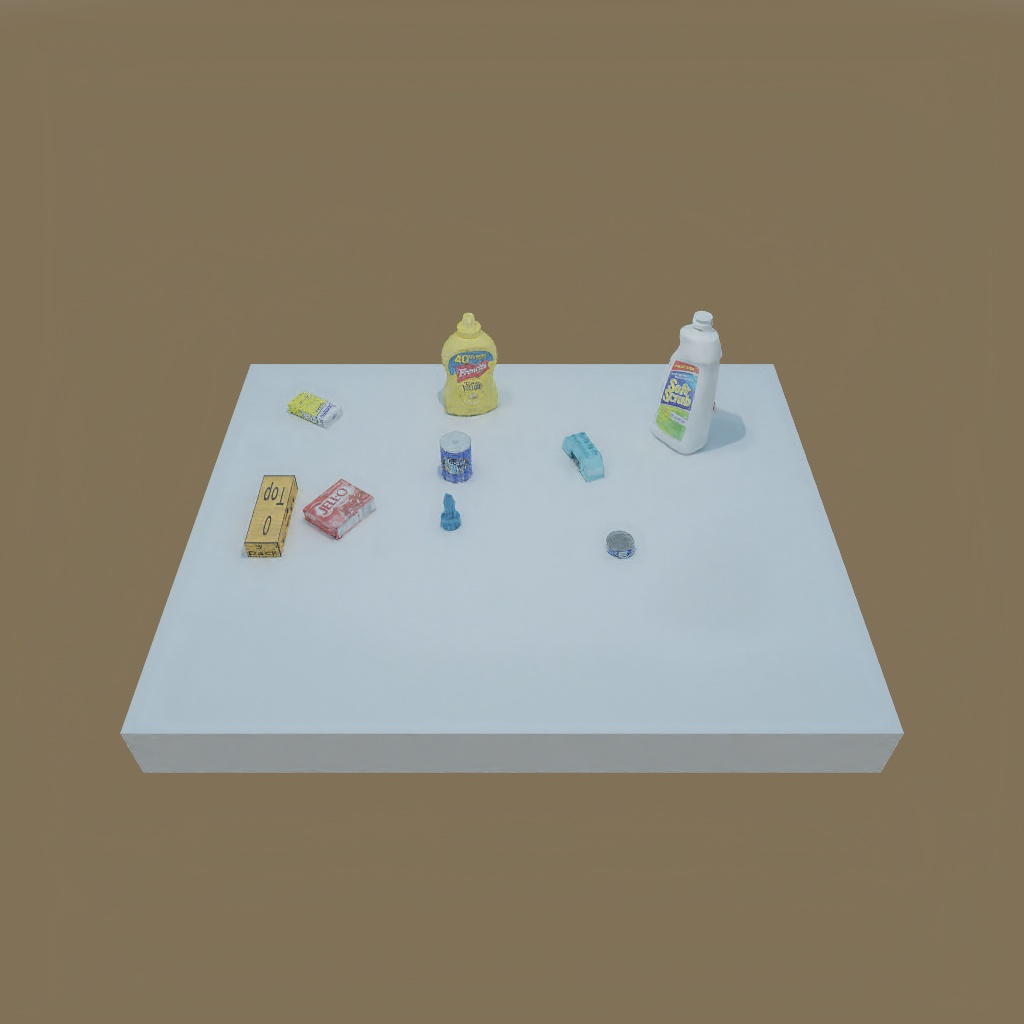gelatin_box: (304, 482, 372, 540)
jenga: (243, 470, 292, 557)
master_chef_can: (433, 427, 479, 482)
mustard_bottle: (436, 313, 502, 414)
